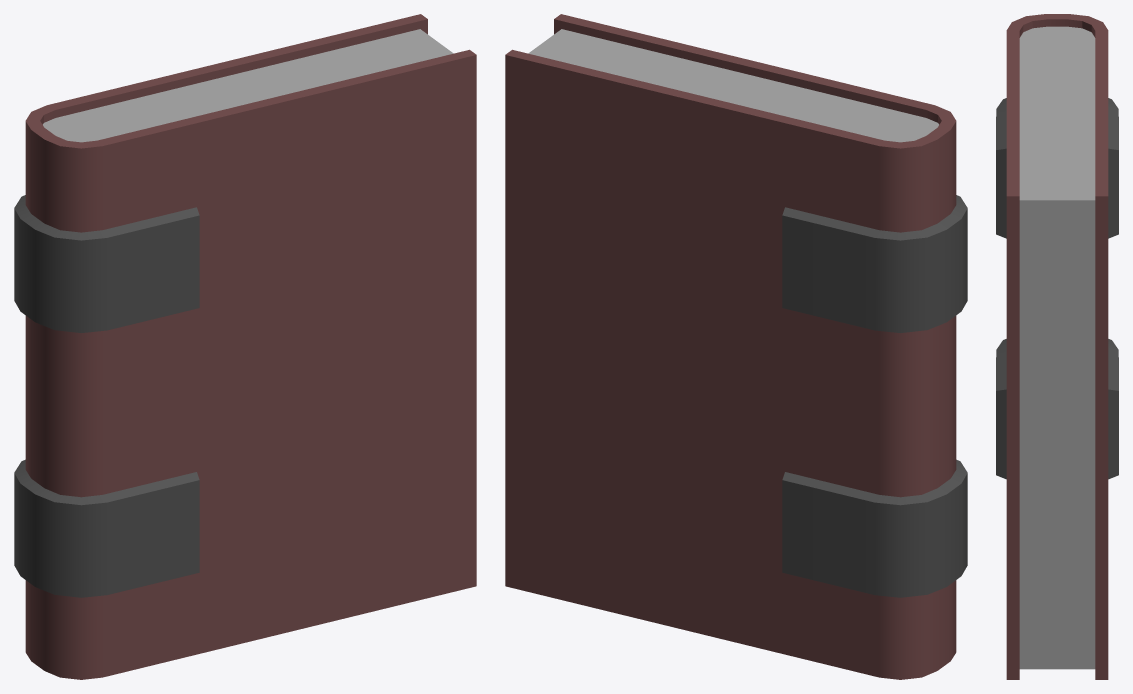
File: SM_Book_01a.fbx
3 views of the same model, side by side, from view 1: azimuth 30°, elevation 25°; view 2: azimuth 150°, elevation 25°; view 3: azimuth 270°, elevation 25° (orthographic). The views are drawn at different scales.
Visible parts, largest first — view 1: SM_Book_01a; view 2: SM_Book_01a; view 3: SM_Book_01a.
Boxes of the visible parts, box(x1,y1,x2,y2) form: SM_Book_01a: box(14, 14, 476, 679); SM_Book_01a: box(505, 14, 967, 679); SM_Book_01a: box(996, 14, 1118, 679).
Bounding box in the file's own units: 27.58 × 33.27 × 7.67.
